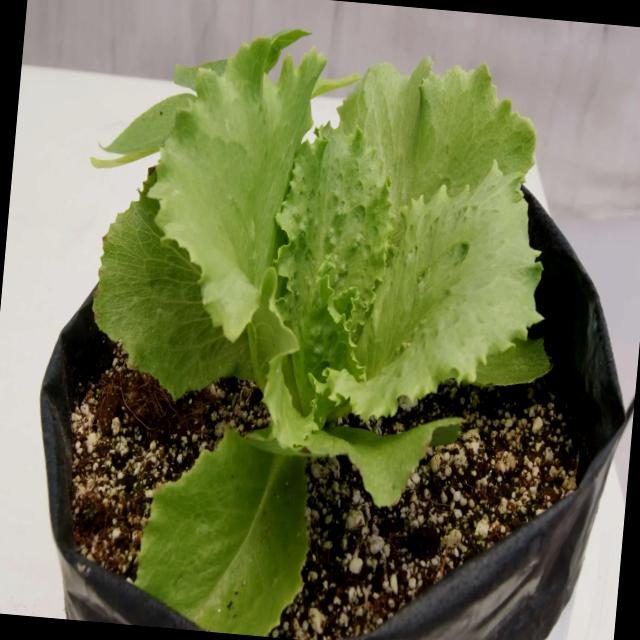inmadura: (96, 39, 547, 633)
